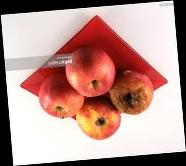red apple: (63, 46, 116, 100), (36, 71, 85, 122), (75, 99, 121, 141)
rotten apple: (110, 68, 154, 117)
